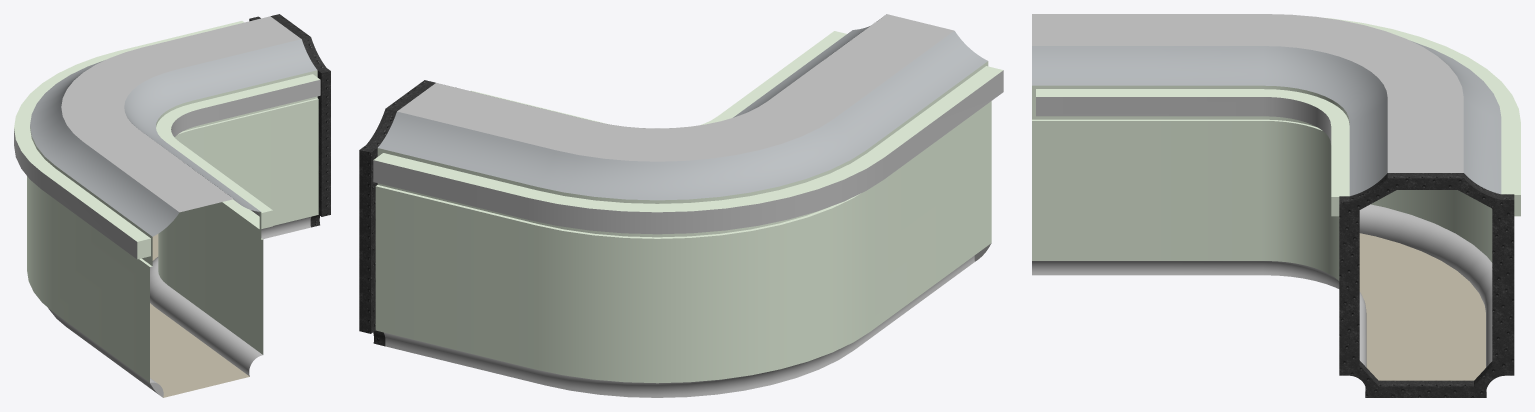
The model's file is curva2.fbx.
3 renders of one model, left to right at view 1: azimuth 30°, elevation 25°; view 2: azimuth 150°, elevation 25°; view 3: azimuth 270°, elevation 25°, orthographic. The views are drawn at different scales.
Visible parts, largest first — view 1: Model; view 2: Model; view 3: Model.
Part boxes in pixels (left/top/right/bottom): Model: left=14, top=14, right=330, bottom=397; Model: left=359, top=14, right=1003, bottom=397; Model: left=1032, top=14, right=1520, bottom=397.
Size of the model in its own units: 4.84 by 2.63 by 5.31.
